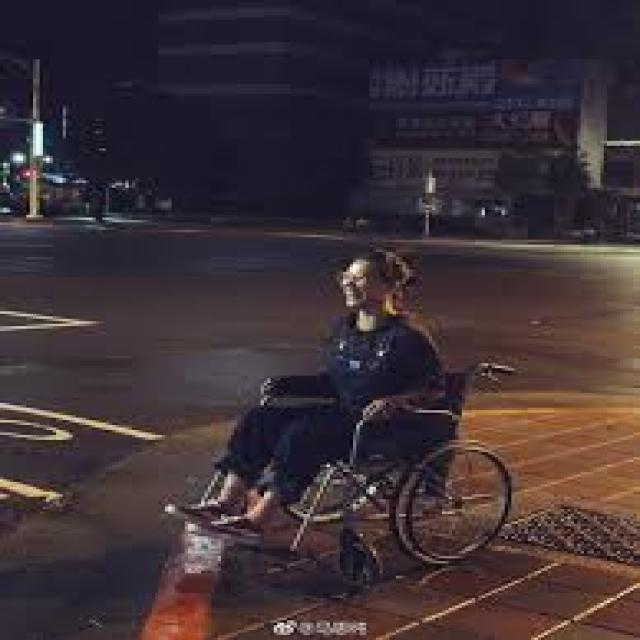wheelchairs: (198, 356, 518, 593)
